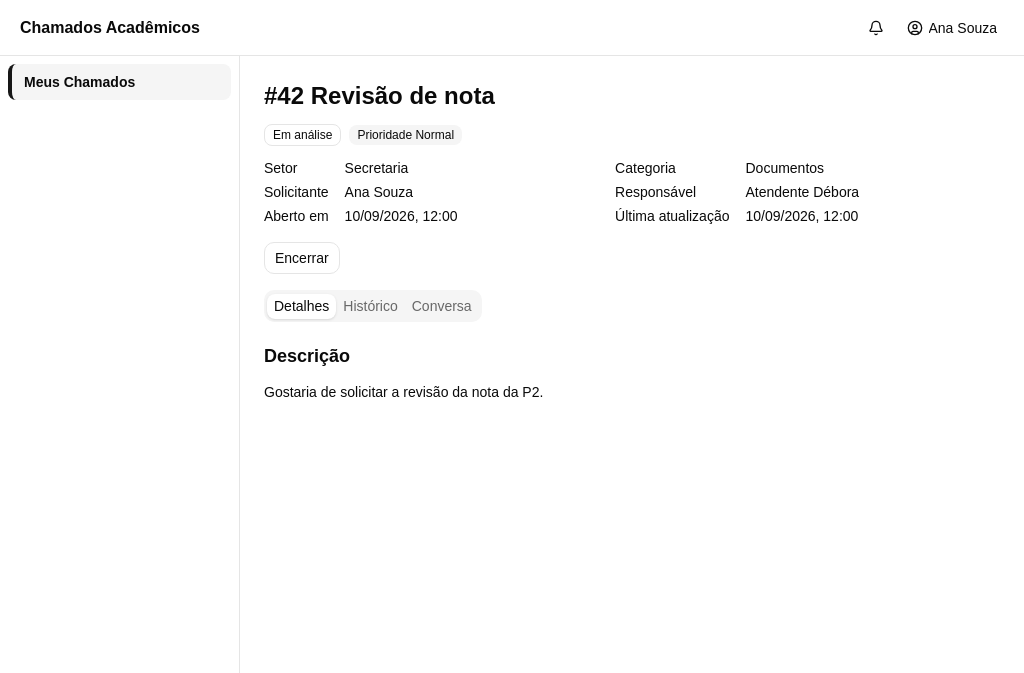
Test case: ConversationTab (Tela 5, US1.4, BR5.1) › asks for the most recent page and shows it in chronological order (BR5.4)
Click the tab with test id "ticket-tabs-conversation-tab" at (442, 306), box [405,294,479,318]
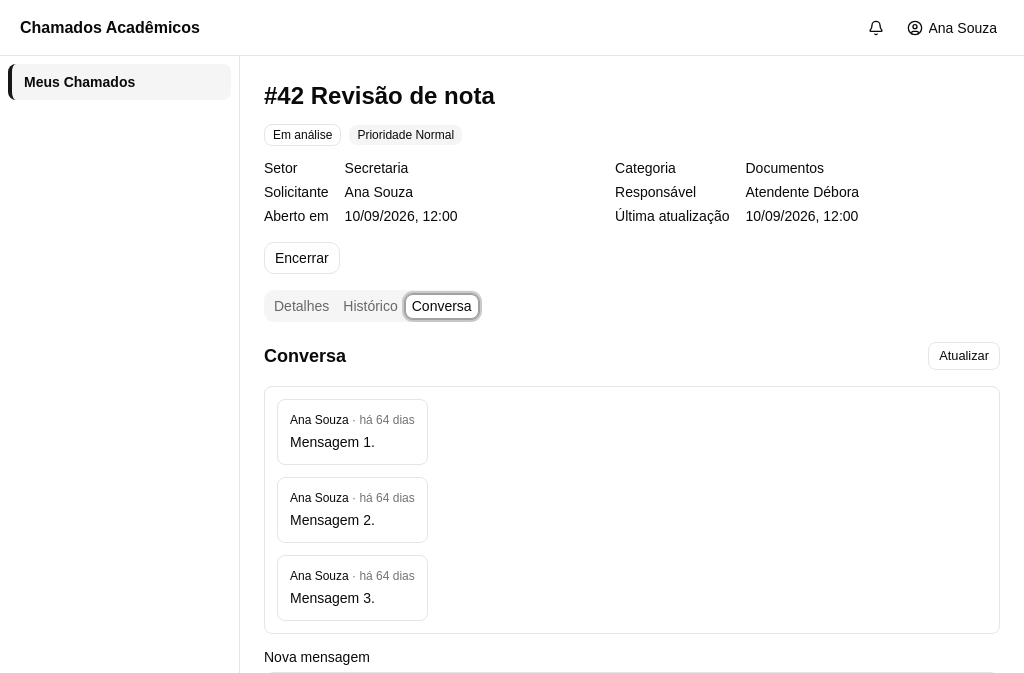
Check: the elements with test id "message-bubble-body" read "Mensagem 1.", "Mensagem 2.", "Mensagem 3.", in this order, box [290,434,375,450]; [290,512,375,528]; [290,590,375,606]
